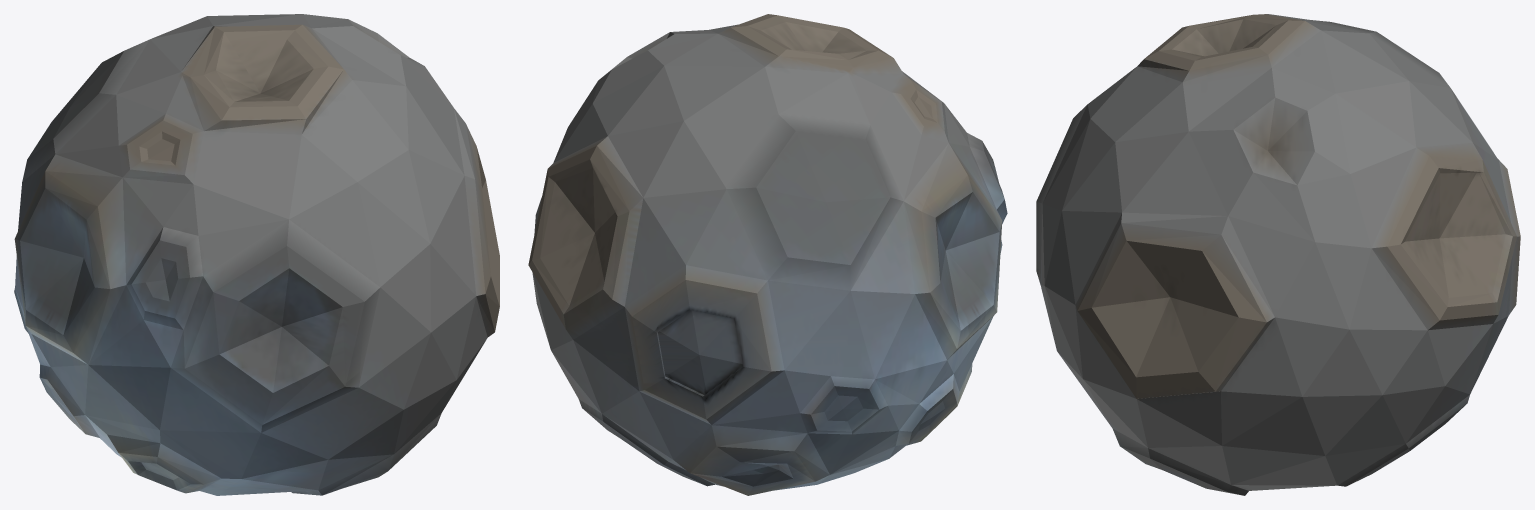
The model's file is Thugship_Moon_01.fbx.
The picture shows the model from 3 angles, left to right: view 1: azimuth 30°, elevation 25°; view 2: azimuth 150°, elevation 25°; view 3: azimuth 270°, elevation 25°; orthographic projection. The views are drawn at different scales.
Parts seen in each view (by area): view 1: Thugship_Moon_01; view 2: Thugship_Moon_01; view 3: Thugship_Moon_01.
Boxes of the visible parts, x1,y1,x2,y2 form: Thugship_Moon_01: (14, 14, 499, 495); Thugship_Moon_01: (528, 14, 1007, 495); Thugship_Moon_01: (1036, 14, 1520, 495).
Bounding box in the file's own units: 256 × 253 × 254.
1 material, 1 textured.
